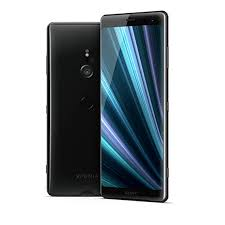sony: (46, 8, 171, 202)
